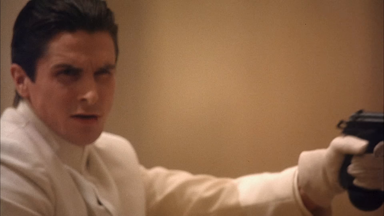firearm: (332, 109, 382, 210)
